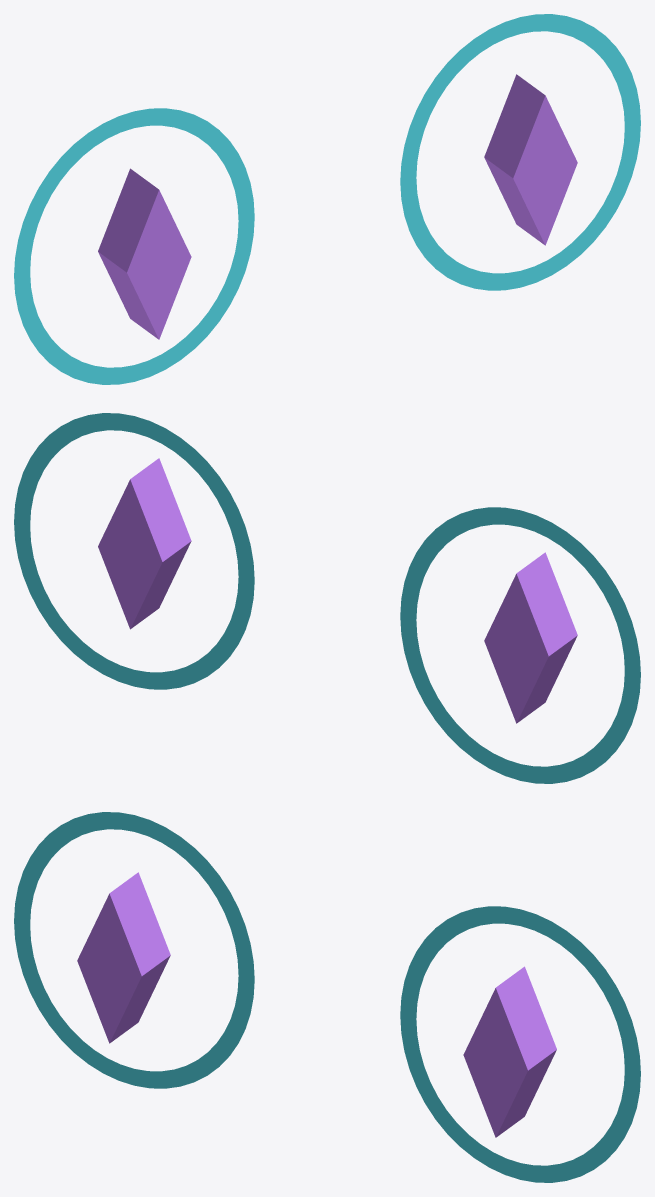
File: magic-eyes.glb
3 renders of one model, top to bottom at view 1: azimuth 30°, elevation 25°; view 2: azimuth 150°, elevation 25°; view 3: azimuth 330°, elevation 25°, orthographic.
Parts seen in each view (by area): view 1: magic orbit (×2), iris jewel (×2); view 2: magic orbit (×2), iris jewel (×2); view 3: magic orbit (×2), iris jewel (×2).
Part boxes in pixels (x1,y1,x2,y2): magic orbit (×2): (14,14,640,384); iris jewel (×2): (98,74,577,339); magic orbit (×2): (14,413,640,783); iris jewel (×2): (98,458,577,723); magic orbit (×2): (14,812,640,1182); iris jewel (×2): (77,872,556,1137).
Size of the model in its own units: 1.4 by 0.576 by 0.112.
